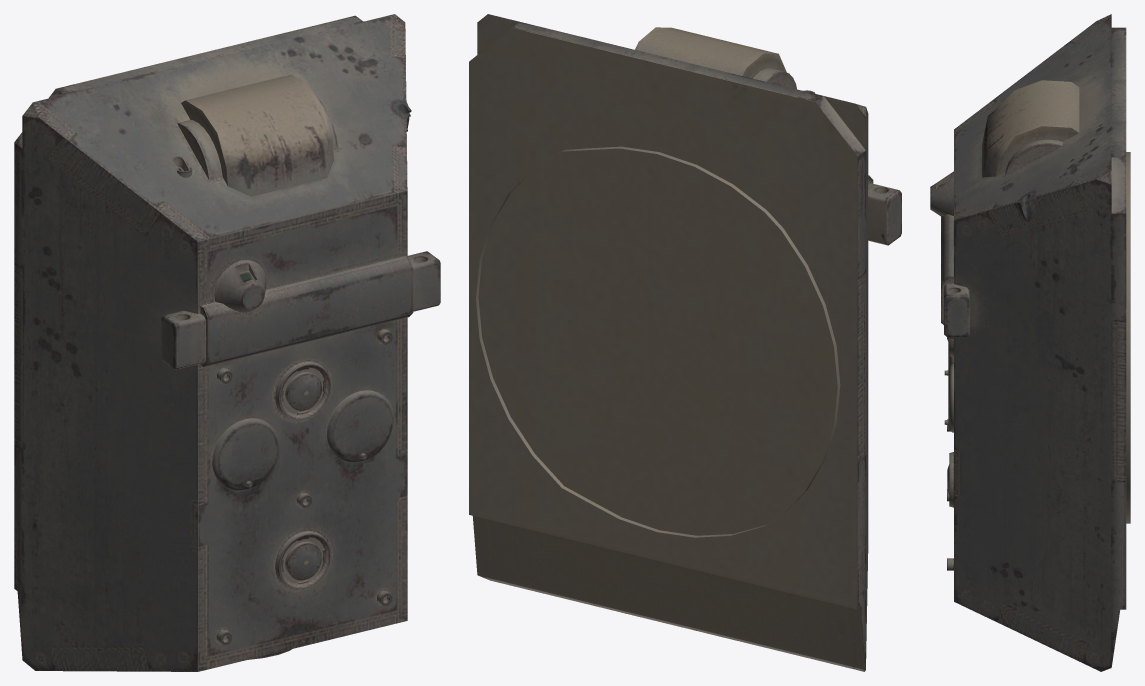
Rendered from Turret_02.glb.
3 renders of one model, left to right at view 1: azimuth 30°, elevation 25°; view 2: azimuth 150°, elevation 25°; view 3: azimuth 270°, elevation 25°, orthographic. The views are drawn at different scales.
Visible parts, largest first — view 1: set_0_group_0; view 2: set_0_group_0; view 3: set_0_group_0.
Boxes of the visible parts, x1,y1,x2,y2 form: set_0_group_0: [14, 14, 440, 671]; set_0_group_0: [469, 14, 901, 671]; set_0_group_0: [930, 14, 1130, 671].
Bounding box in the file's own units: 3 × 4.27 × 1.53.
Materials: 1 (1 with a texture image).
